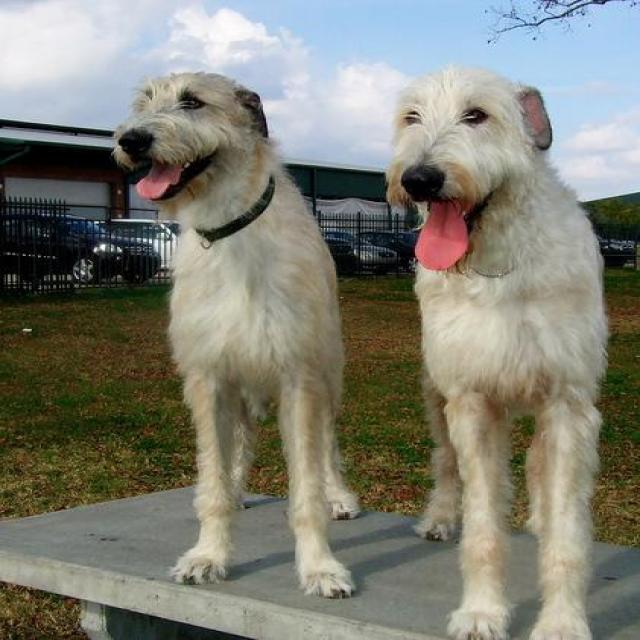irish_wolfhound: (114, 71, 357, 596), (385, 67, 608, 638)
